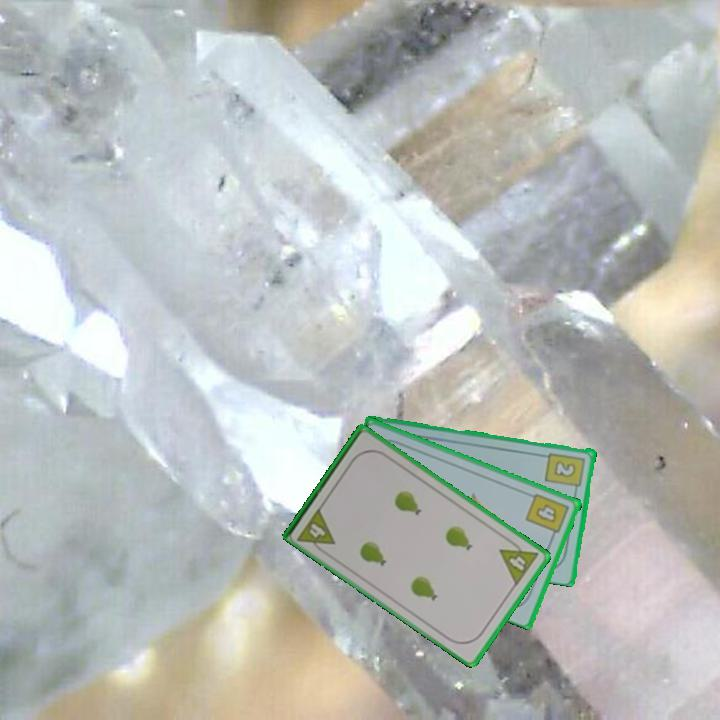2b: (542, 449, 588, 495)
4b: (523, 490, 573, 541)
4p: (496, 534, 542, 588), (294, 504, 338, 557)
